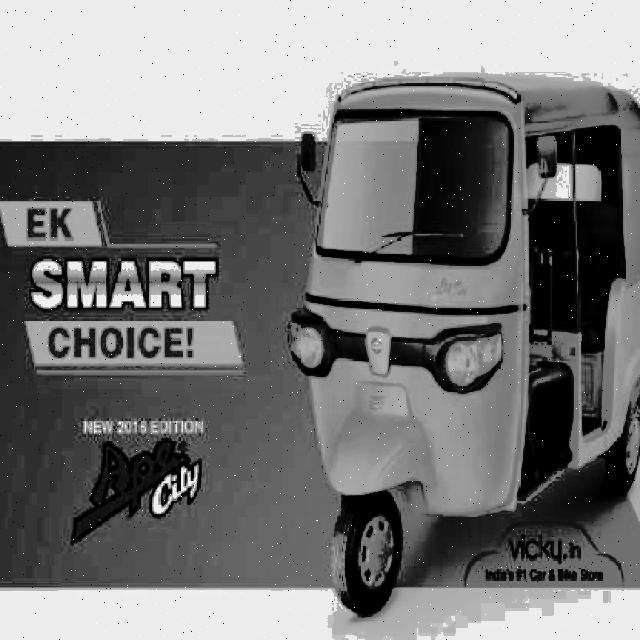Auto-Rickshaw: (307, 63, 640, 618)
